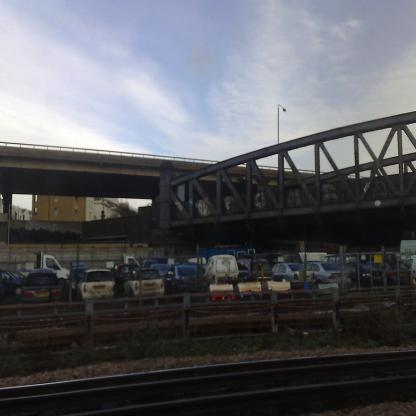Car: (0, 241, 416, 310)
